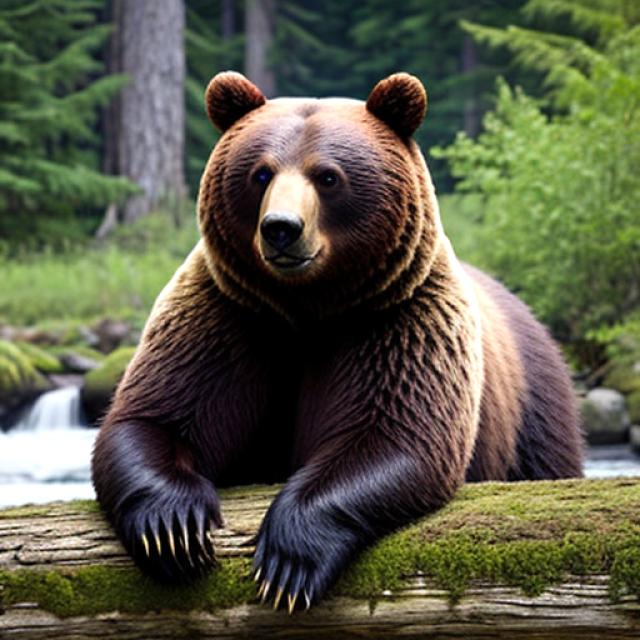bear: (196, 70, 471, 327)
